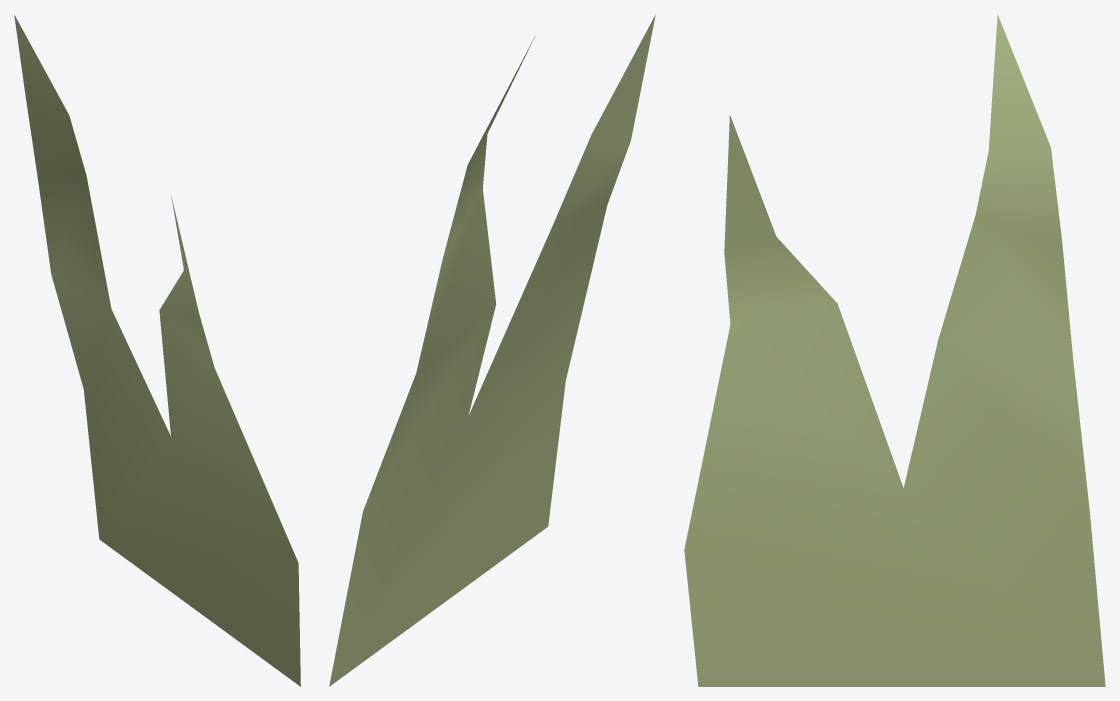
File: TallGrass1.fbx
3 views of the same model, side by side, from view 1: azimuth 30°, elevation 25°; view 2: azimuth 150°, elevation 25°; view 3: azimuth 270°, elevation 25° (orthographic). The views are drawn at different scales.
Visible parts, largest first — view 1: TallGrass2; view 2: TallGrass2; view 3: TallGrass2.
Part boxes in pixels (x1=…): TallGrass2: x1=14, y1=14, x2=300, y2=686; TallGrass2: x1=329, y1=15, x2=655, y2=686; TallGrass2: x1=684, y1=15, x2=1105, y2=686.
Size of the model in its own units: 6 by 24.73 by 15.62.
